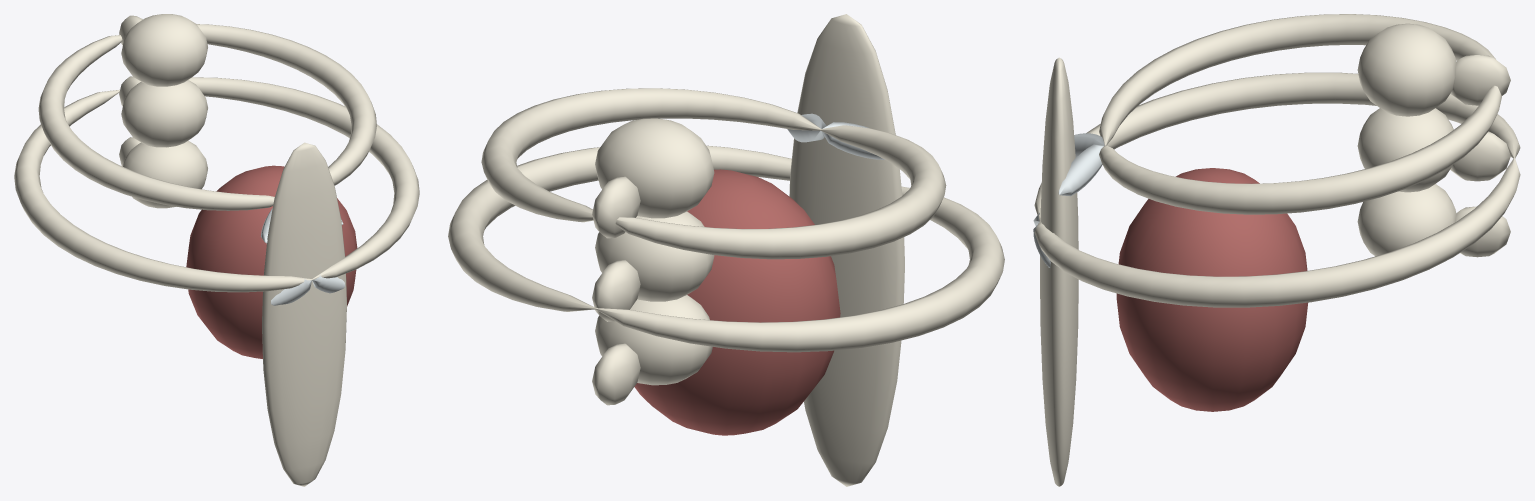
File: body.glb
3 renders of one model, left to right at view 1: azimuth 30°, elevation 25°; view 2: azimuth 150°, elevation 25°; view 3: azimuth 270°, elevation 25°, orthographic. The views are drawn at different scales.
Parts seen in each view (by area): view 1: FMA_7485, UBERON_0000948, FMA_7882, FMA_7857, FMA_8012, FMA_7987, FMA_9165, FMA_9187, FMA_9209, FMA_85213; view 2: FMA_7485, UBERON_0000948, FMA_7882, FMA_7857, FMA_7987, FMA_9165, FMA_8012, FMA_9209, FMA_9187, FMA_85213; view 3: UBERON_0000948, FMA_8012, FMA_7987, FMA_7485, FMA_7857, FMA_7882, FMA_9165, FMA_9187, FMA_9209, FMA_85213.
Part boxes in pixels (x1,y1,x2,y2): FMA_7485: (262,142,346,486); UBERON_0000948: (186,165,357,358); FMA_7882: (14,89,312,292); FMA_7857: (38,35,274,210); FMA_8012: (188,77,419,279); FMA_7987: (196,24,376,185); FMA_9165: (119,14,207,86); FMA_9187: (119,76,207,147); FMA_9209: (119,137,207,208); FMA_85213: (261,208,345,305); FMA_7485: (789,14,904,486); UBERON_0000948: (634,169,840,435); FMA_7882: (595,186,1004,352); FMA_7857: (615,125,946,259); FMA_7987: (481,88,820,222); FMA_9165: (592,118,714,238); FMA_8012: (448,145,791,311); FMA_9209: (592,295,712,405); FMA_9187: (592,211,714,321); FMA_85213: (787,113,884,159); UBERON_0000948: (1116,168,1307,411); FMA_8012: (1034,158,1520,307); FMA_7987: (1099,85,1501,214); FMA_7485: (1040,57,1078,486); FMA_7857: (1099,14,1495,145); FMA_7882: (1034,72,1520,221); FMA_9165: (1357,23,1510,116); FMA_9187: (1357,108,1510,192); FMA_9209: (1357,184,1510,257); FMA_85213: (1033,133,1104,267).
Bounding box in the file's own units: 0.182 × 0.181 × 0.1747.
